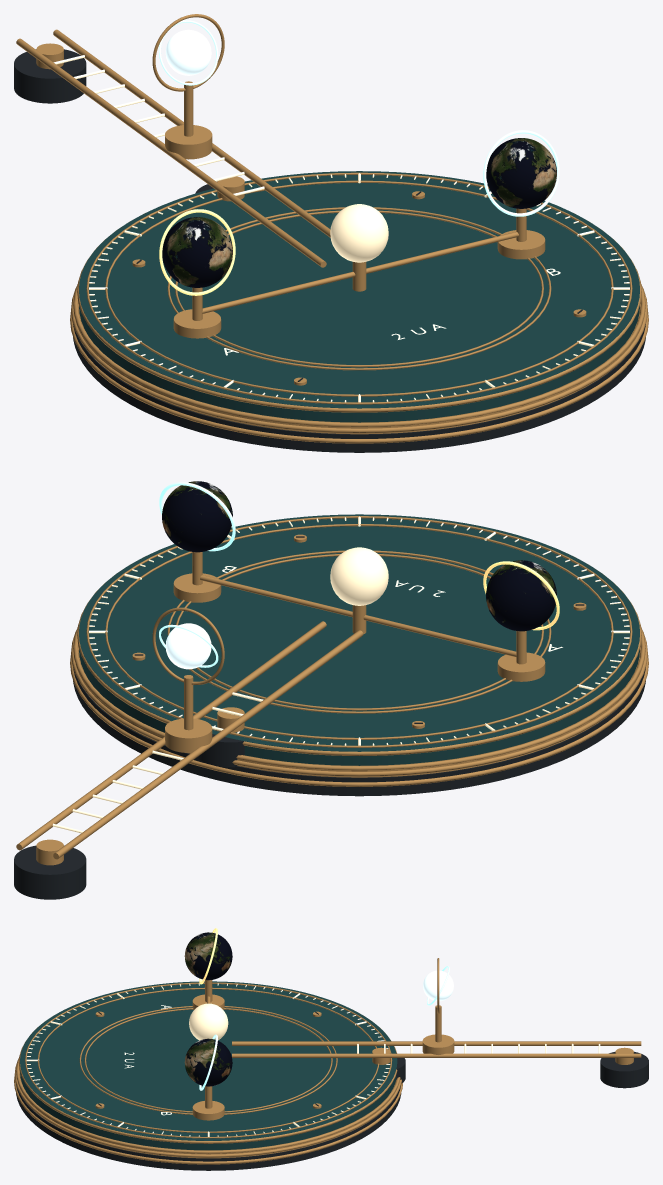
File: instrument.glb
3 views of the same model, one above another, from view 1: azimuth 30°, elevation 25°; view 2: azimuth 150°, elevation 25°; view 3: azimuth 270°, elevation 25° (orthographic). The views are drawn at different scales.
Parts seen in each view (by area): view 1: Esmalte oceano, Latão acetinado, Antracite, Terra · NASA BMNG, Marfim, Target, Linha A · cobre, Linha B · gelo; view 2: Esmalte oceano, Latão acetinado, Antracite, Terra · NASA BMNG, Marfim, Target, Linha A · cobre, Linha B · gelo; view 3: Esmalte oceano, Latão acetinado, Antracite, Terra · NASA BMNG, Marfim, Target.
Part boxes in pixels (left/top/right/bottom): Esmalte oceano: left=79, top=171, right=639, bottom=422; Latão acetinado: left=16, top=29, right=648, bottom=443; Antracite: left=14, top=49, right=645, bottom=452; Terra · NASA BMNG: left=162, top=138, right=556, bottom=287; Marfim: left=53, top=55, right=629, bottom=402; Target: left=152, top=14, right=224, bottom=159; Linha A · cobre: left=159, top=209, right=235, bottom=295; Linha B · gelo: left=483, top=130, right=559, bottom=216; Esmalte oceano: left=79, top=514, right=639, bottom=765; Latão acetinado: left=16, top=516, right=648, bottom=865; Antracite: left=14, top=536, right=645, bottom=899; Terra · NASA BMNG: left=162, top=481, right=556, bottom=631; Marfim: left=52, top=516, right=629, bottom=833; Target: left=152, top=607, right=224, bottom=752; Linha A · cobre: left=483, top=561, right=559, bottom=630; Linha B · gelo: left=159, top=482, right=235, bottom=551; Esmalte oceano: left=20, top=981, right=397, bottom=1150; Latão acetinado: left=14, top=980, right=641, bottom=1164; Antracite: left=16, top=1012, right=648, bottom=1170; Terra · NASA BMNG: left=184, top=932, right=232, bottom=1086; Marfim: left=26, top=983, right=600, bottom=1136; Target: left=422, top=958, right=454, bottom=1054.
Size of the model in its own units: 4.64 by 1.69 by 7.57.
Materials: 8 (1 with a texture image).
